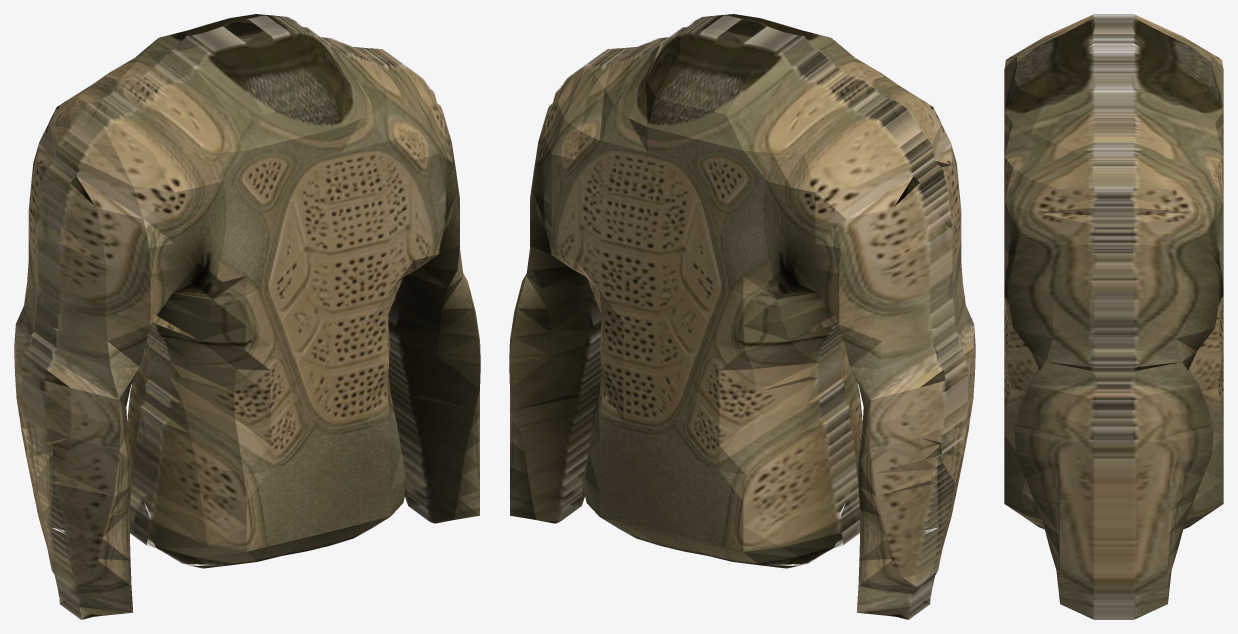
Rendered from tcx-circuit-armored-shirt-173.glb.
The picture shows the model from 3 angles, left to right: view 1: azimuth 30°, elevation 25°; view 2: azimuth 150°, elevation 25°; view 3: azimuth 270°, elevation 25°; orthographic projection. The views are drawn at different scales.
Visible parts, largest first — view 1: world; view 2: world; view 3: world.
Part boxes in pixels (box(x1,y1,x2,y2)): world: box(14, 14, 480, 619); world: box(509, 14, 975, 619); world: box(1004, 14, 1223, 619).
Size of the model in its own units: 0.8354 by 1 by 0.4.
1 material, 1 textured.
